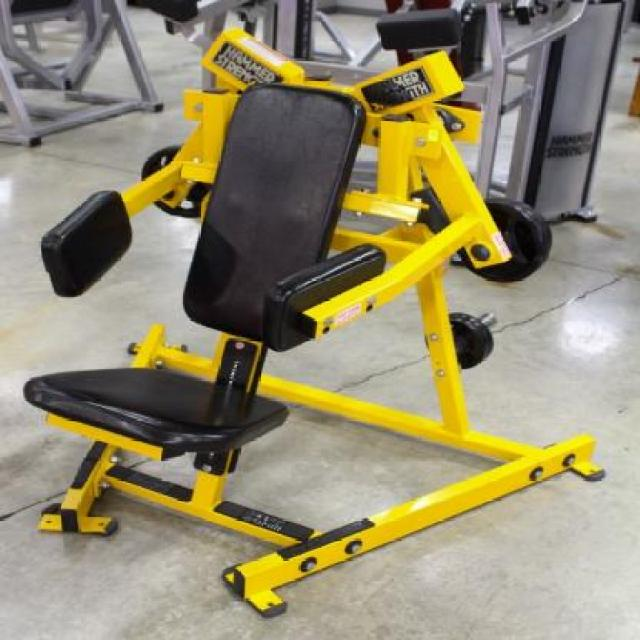lateral raises machine: (17, 28, 608, 615)
